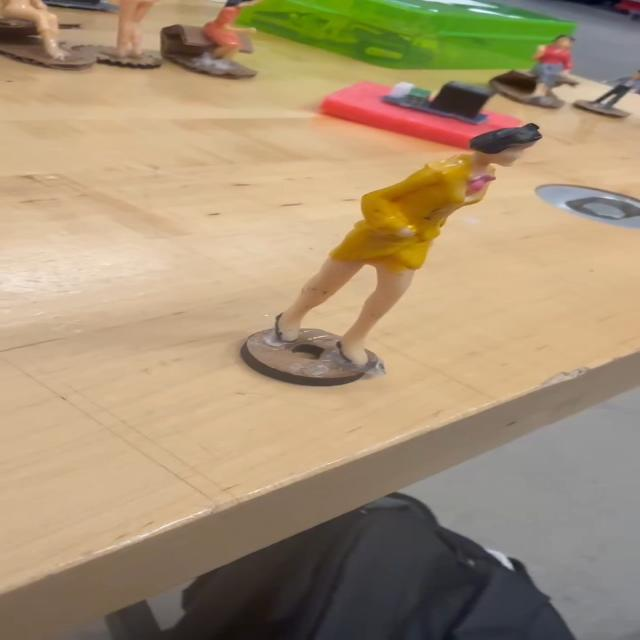Authorized: (289, 115, 559, 378)
